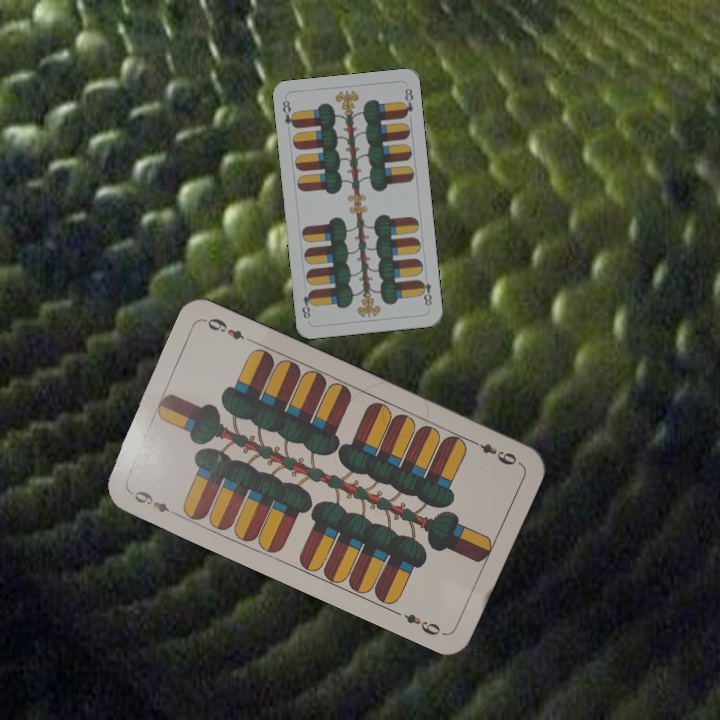E8: (416, 270, 434, 309), (279, 96, 298, 130)
E9: (466, 435, 520, 468), (125, 486, 173, 515)
